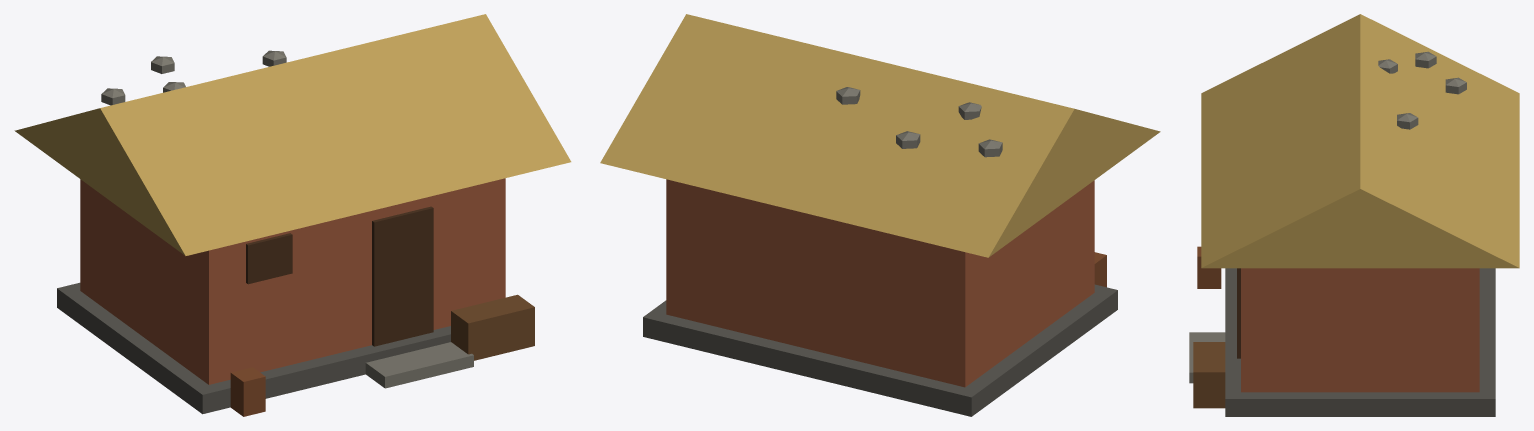
File: a2v_house_small.glb
The picture shows the model from 3 angles, left to right: view 1: azimuth 30°, elevation 25°; view 2: azimuth 150°, elevation 25°; view 3: azimuth 270°, elevation 25°; orthographic projection. The views are drawn at different scales.
Visible parts, largest first — view 1: a2v_house_small; view 2: a2v_house_small; view 3: a2v_house_small.
Boxes of the visible parts, left/top/right/bottom form: a2v_house_small: left=14, top=14, right=571, bottom=416; a2v_house_small: left=600, top=14, right=1160, bottom=416; a2v_house_small: left=1189, top=14, right=1519, bottom=416.
Size of the model in its own units: 5.2 by 3.35 by 4.15.
